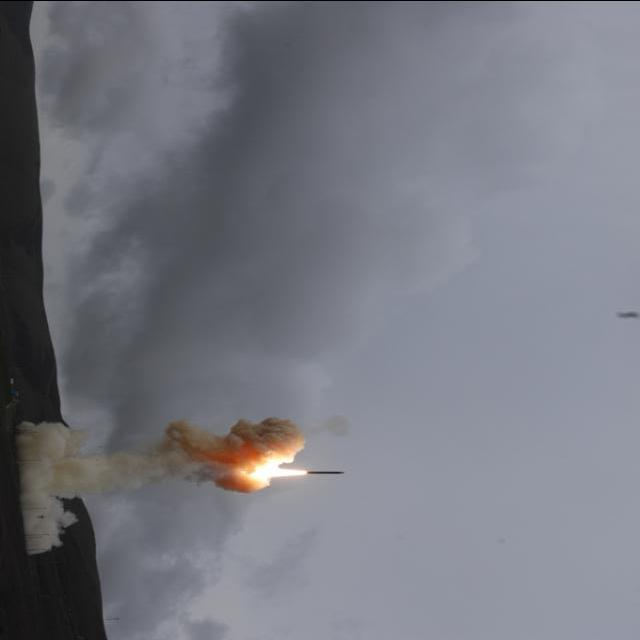missile: (303, 468, 349, 474)
